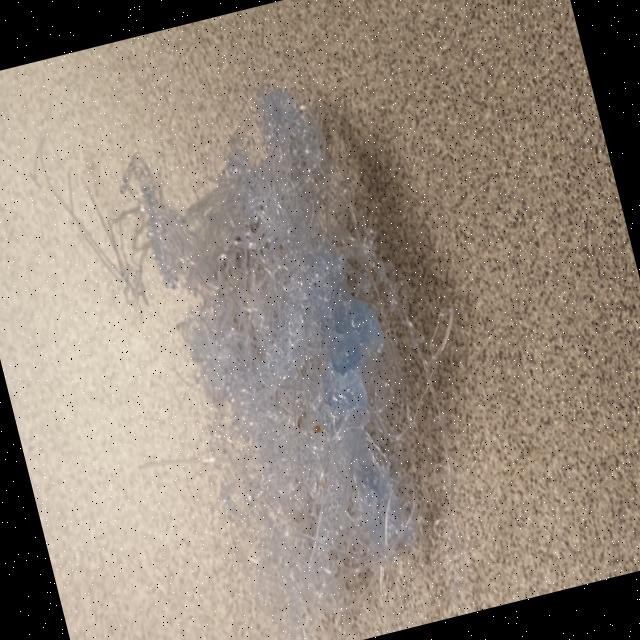spaghetti: (59, 125, 441, 640)
